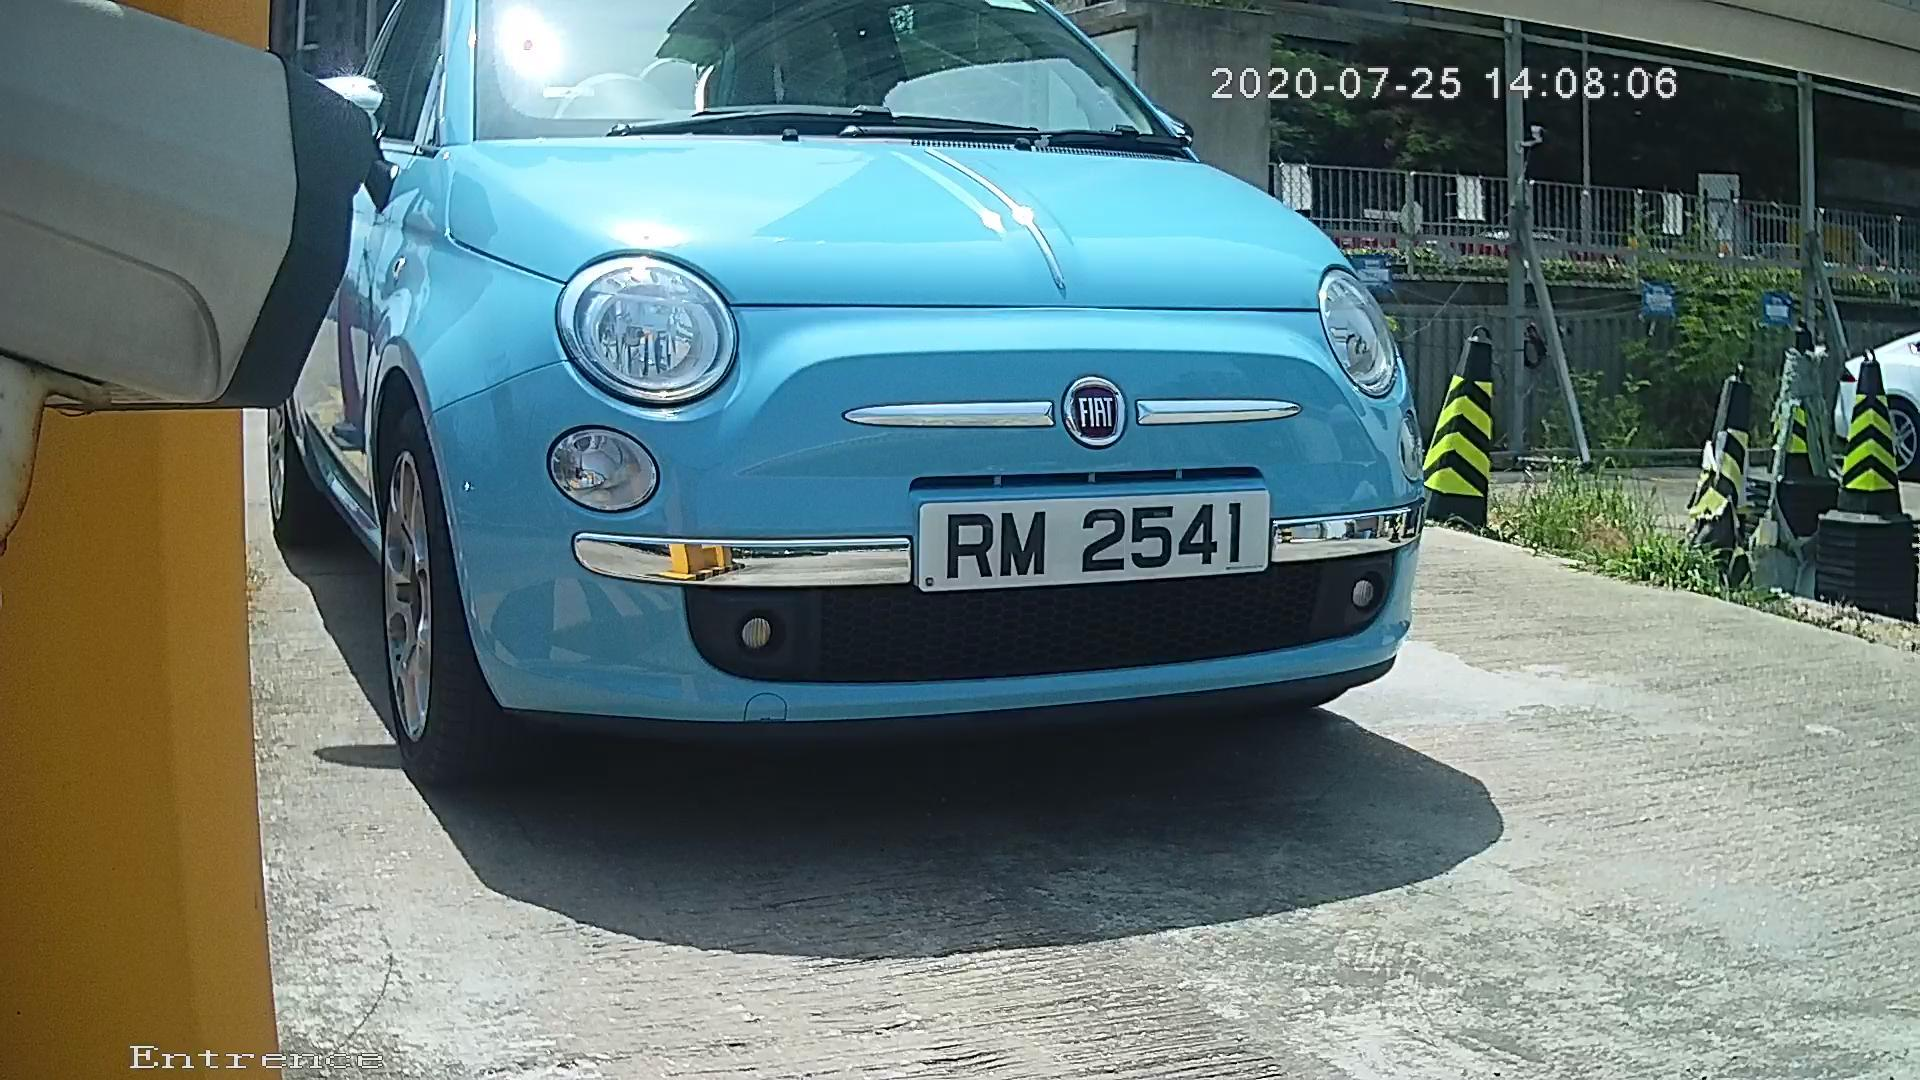Car: (172, 1, 1526, 844)
License Plate: (875, 478, 1269, 608)
